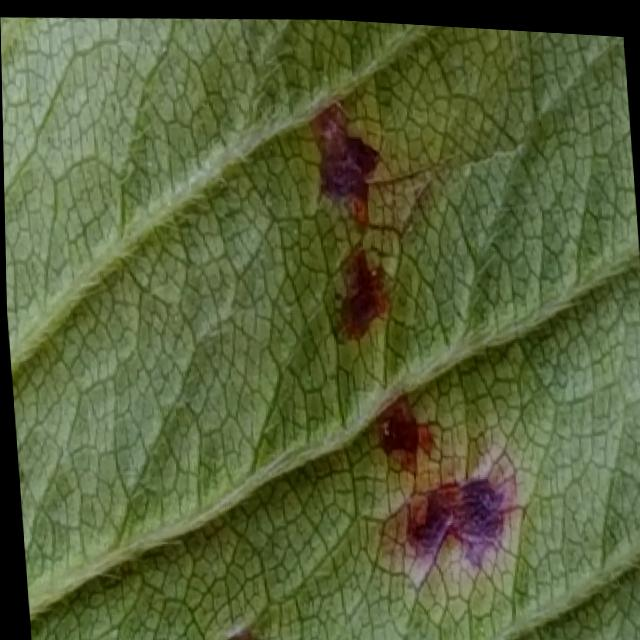Angular Leafspot: (22, 81, 525, 640)
